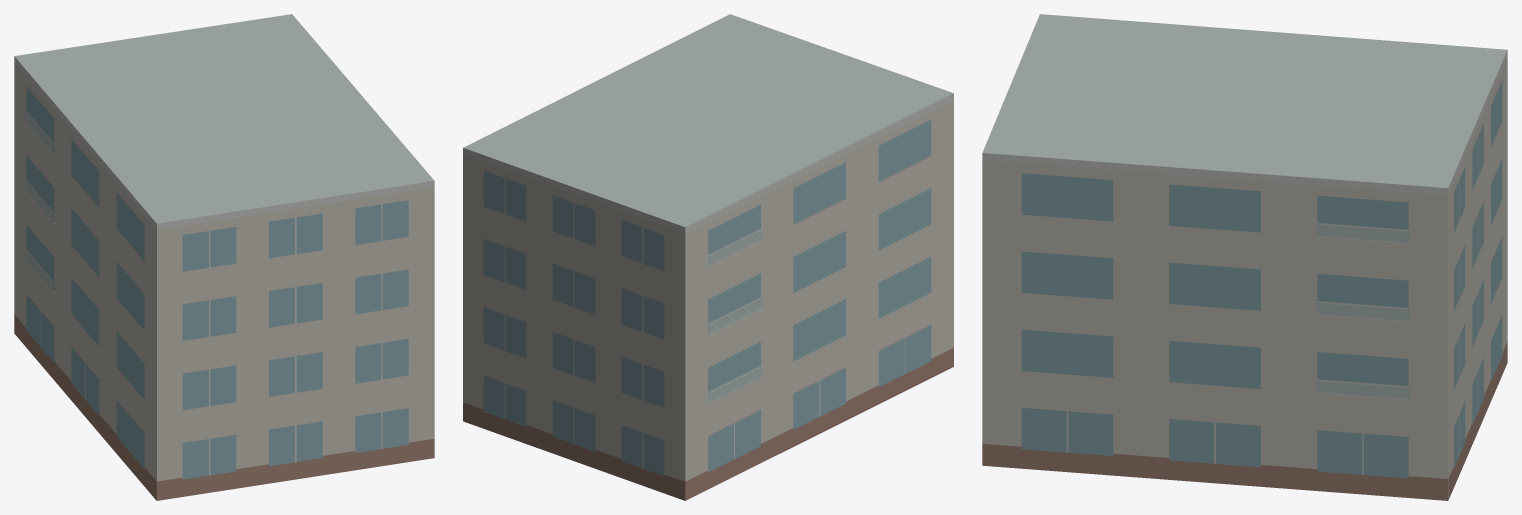
The model's file is survey-upis-33029873.glb.
3 views of the same model, side by side, from view 1: azimuth 30°, elevation 25°; view 2: azimuth 150°, elevation 25°; view 3: azimuth 270°, elevation 25° (orthographic). The views are drawn at different scales.
Parts seen in each view (by area): view 1: survey-upis-33029873.tmp; view 2: survey-upis-33029873.tmp; view 3: survey-upis-33029873.tmp.
Boxes of the visible parts, x1,y1,x2,y2 form: survey-upis-33029873.tmp: (14,14,434,500); survey-upis-33029873.tmp: (463,14,953,500); survey-upis-33029873.tmp: (982,14,1507,500).
Bounding box in the file's own units: 12.67 × 10.6 × 16.15.
